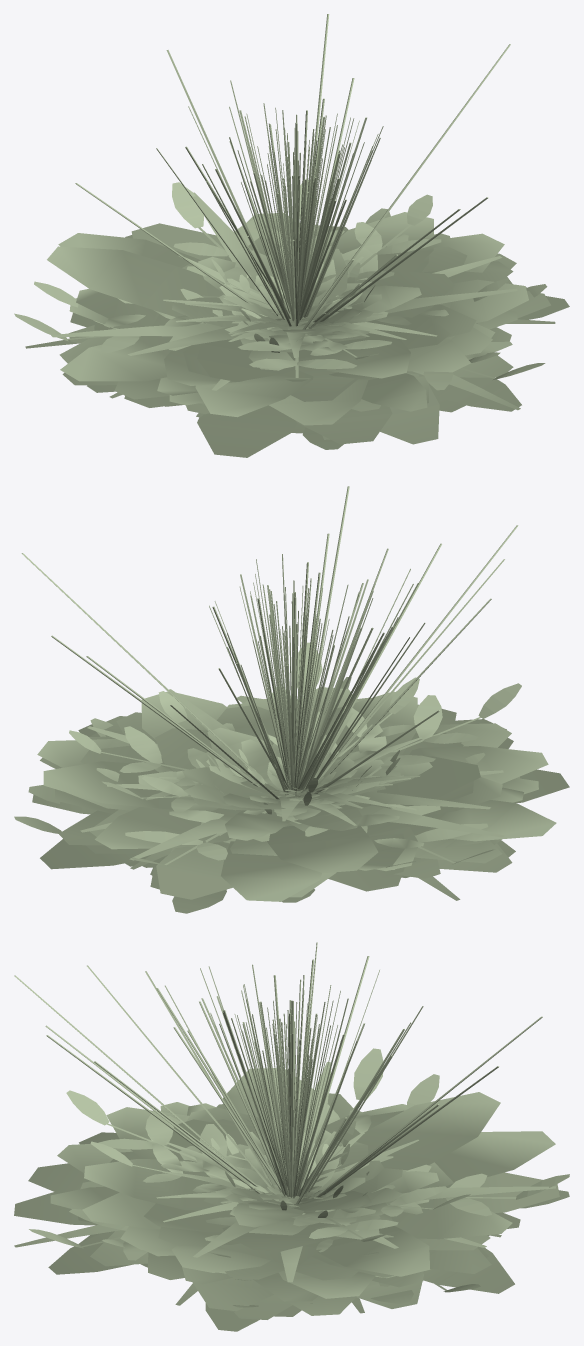
File: herb_rosette.glb
3 views of the same model, one above another, from view 1: azimuth 30°, elevation 25°; view 2: azimuth 150°, elevation 25°; view 3: azimuth 270°, elevation 25° (orthographic).
Parts seen in each view (by area): view 1: v5_foliage, v13_foliage, v9_foliage, v2_foliage, v18_foliage, v6_foliage, v19_foliage, v0_foliage, v15_foliage, v14_foliage, v3_foliage, v10_foliage (+9 smaller); view 2: v5_foliage, v13_foliage, v9_foliage, v18_foliage, v0_foliage, v6_foliage, v2_foliage, v14_foliage, v19_foliage, v15_foliage, v3_foliage, v8_foliage (+8 smaller); view 3: v5_foliage, v13_foliage, v9_foliage, v2_foliage, v18_foliage, v6_foliage, v0_foliage, v14_foliage, v19_foliage, v15_foliage, v3_foliage, v10_foliage (+9 smaller).
Boxes of the visible parts, bbox=[...] form: v5_foliage: bbox=[59, 110, 550, 444]; v13_foliage: bbox=[47, 117, 528, 457]; v9_foliage: bbox=[14, 122, 547, 390]; v2_foliage: bbox=[69, 44, 569, 414]; v18_foliage: bbox=[25, 98, 555, 439]; v6_foliage: bbox=[172, 115, 421, 344]; v19_foliage: bbox=[163, 110, 437, 357]; v0_foliage: bbox=[125, 14, 488, 449]; v15_foliage: bbox=[219, 113, 388, 339]; v14_foliage: bbox=[198, 125, 377, 370]; v3_foliage: bbox=[202, 80, 308, 323]; v10_foliage: bbox=[211, 122, 374, 352]; v5_foliage: bbox=[32, 548, 548, 897]; v13_foliage: bbox=[37, 562, 569, 901]; v9_foliage: bbox=[14, 592, 521, 869]; v18_foliage: bbox=[80, 572, 504, 900]; v0_foliage: bbox=[28, 486, 518, 913]; v6_foliage: bbox=[174, 585, 400, 843]; v2_foliage: bbox=[21, 533, 538, 889]; v14_foliage: bbox=[138, 576, 432, 840]; v19_foliage: bbox=[159, 601, 422, 835]; v15_foliage: bbox=[209, 582, 386, 815]; v3_foliage: bbox=[227, 568, 425, 795]; v8_foliage: bbox=[238, 587, 361, 790]; v5_foliage: bbox=[14, 959, 514, 1319]; v13_foliage: bbox=[28, 975, 559, 1316]; v9_foliage: bbox=[29, 1000, 569, 1307]; v2_foliage: bbox=[48, 956, 520, 1331]; v18_foliage: bbox=[14, 998, 556, 1313]; v6_foliage: bbox=[204, 1010, 402, 1235]; v0_foliage: bbox=[14, 971, 569, 1303]; v14_foliage: bbox=[180, 999, 439, 1239]; v19_foliage: bbox=[156, 1002, 418, 1231]; v15_foliage: bbox=[221, 1018, 365, 1218]; v3_foliage: bbox=[165, 964, 423, 1196]; v10_foliage: bbox=[210, 1000, 369, 1217].
Bounding box in the file's own units: 2.27 × 1 × 2.27.
